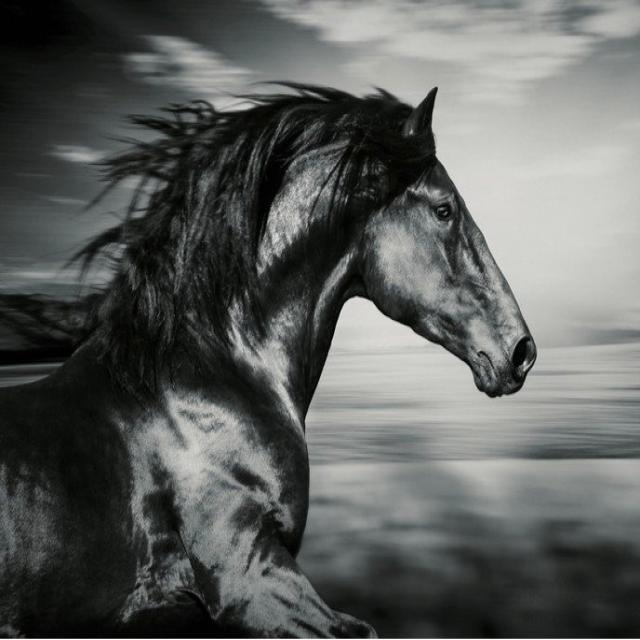horse: (0, 84, 536, 636)
